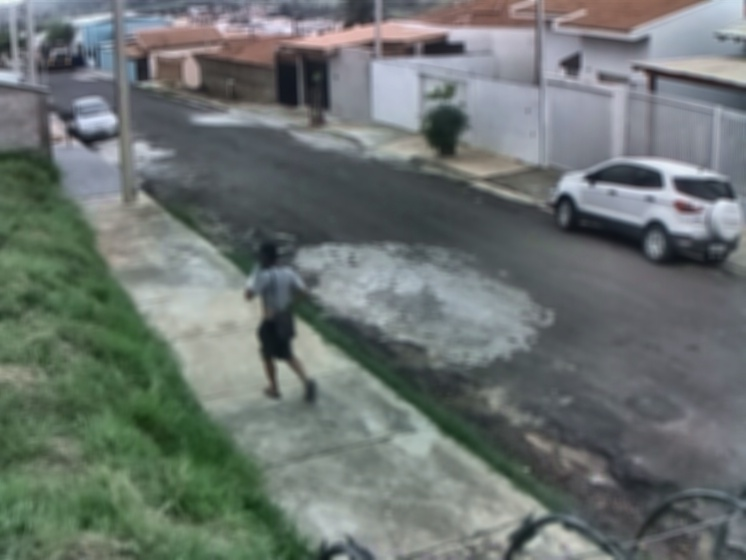person: (243, 240, 327, 408)
